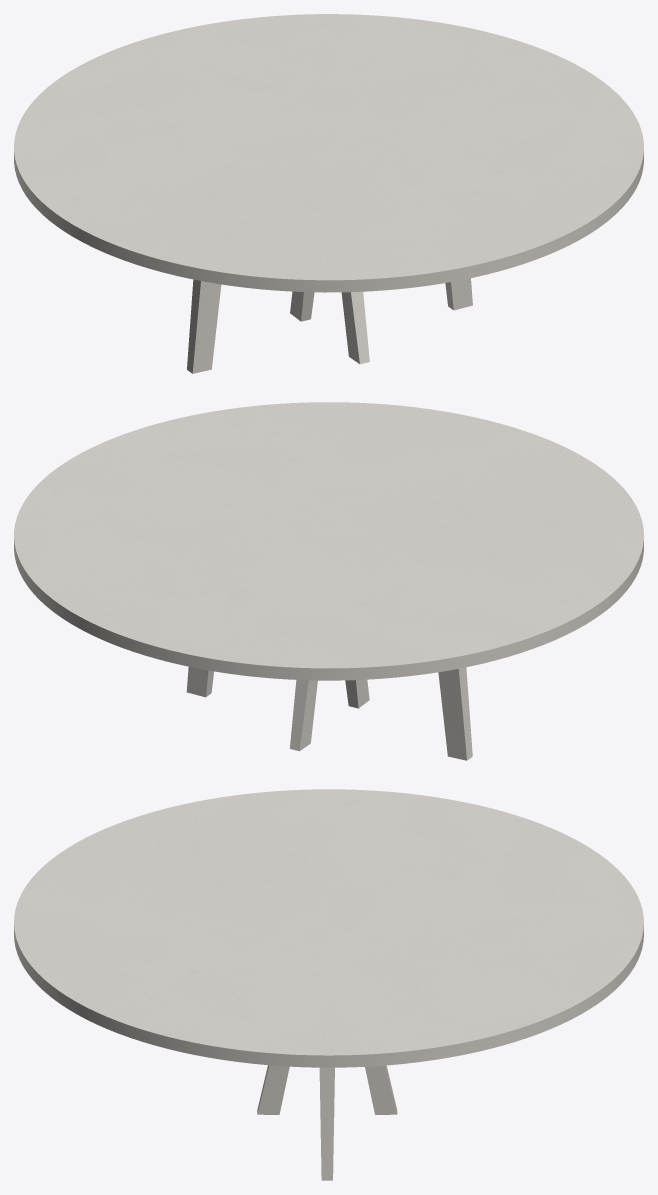
Rendered from pearlwhite_round_standard_searwalnut.glb.
3 views of the same model, one above another, from view 1: azimuth 30°, elevation 25°; view 2: azimuth 150°, elevation 25°; view 3: azimuth 270°, elevation 25° (orthographic).
Visible parts, largest first — view 1: tabletop_round_standard.012, tableleg_searwalnut.015; view 2: tabletop_round_standard.012, tableleg_searwalnut.015; view 3: tabletop_round_standard.012, tableleg_searwalnut.015.
Boxes of the visible parts, bbox=[...] form: tabletop_round_standard.012: bbox=[14, 14, 643, 292]; tableleg_searwalnut.015: bbox=[187, 278, 472, 373]; tabletop_round_standard.012: bbox=[14, 402, 643, 680]; tableleg_searwalnut.015: bbox=[186, 667, 472, 760]; tabletop_round_standard.012: bbox=[14, 789, 643, 1067]; tableleg_searwalnut.015: bbox=[257, 1065, 397, 1180].
Bounding box in the file's own units: 7.5 × 2.5 × 7.5.
1 material, 1 textured.
